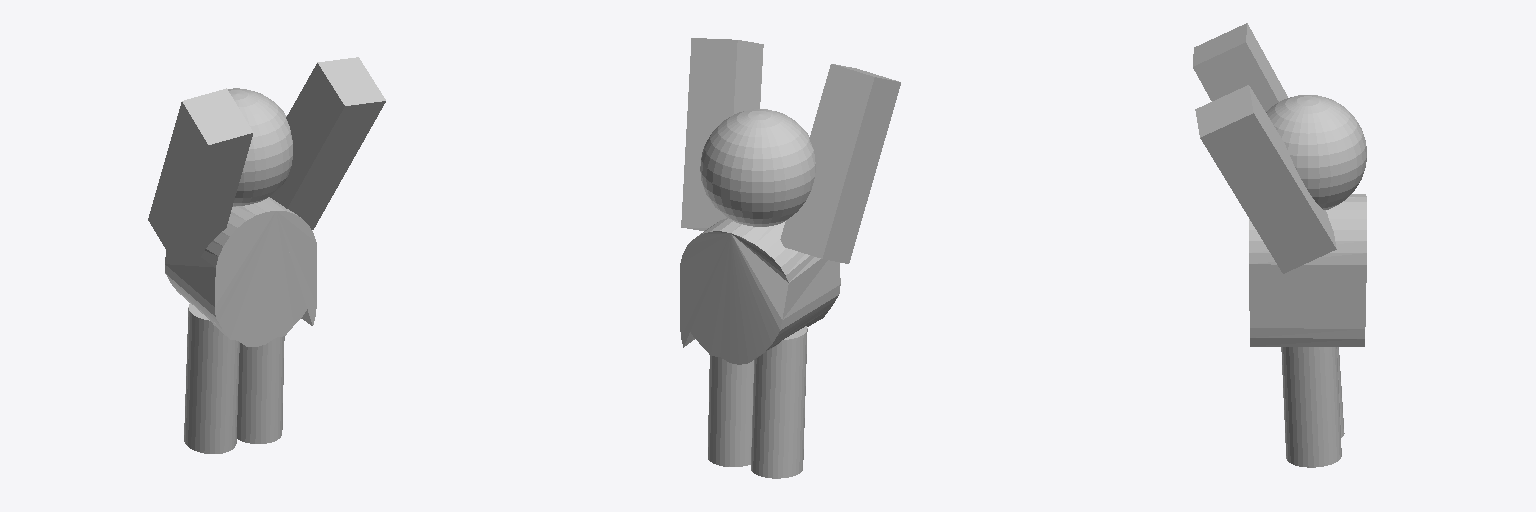
The model's file is Figurine169.obj.
3 views of the same model, side by side, from view 1: azimuth 30°, elevation 25°; view 2: azimuth 150°, elevation 25°; view 3: azimuth 270°, elevation 25° (orthographic).
Visible parts, largest first — view 1: Cylinder; view 2: Cylinder; view 3: Cylinder.
Boxes of the visible parts, x1,y1,x2,y2 form: Cylinder: [148, 57, 385, 453]; Cylinder: [680, 38, 900, 478]; Cylinder: [1193, 23, 1366, 467].
Bounding box in the file's own units: 3.52 × 7.2 × 2.94.